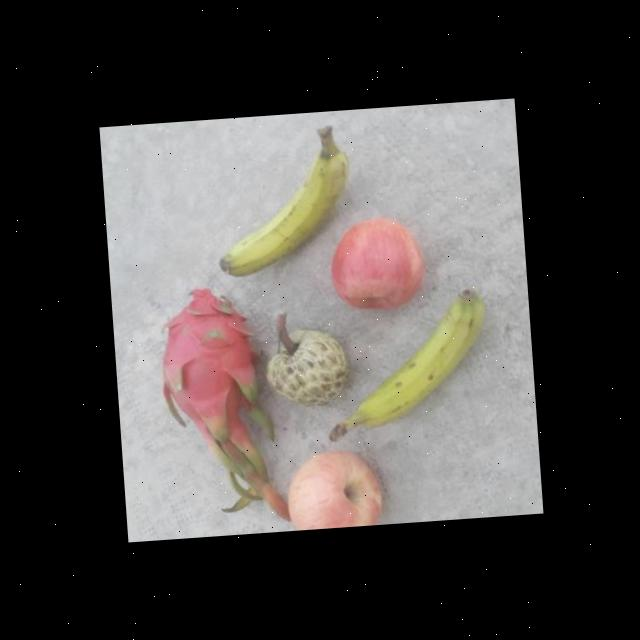Sakya fruit: (258, 316, 348, 410)
apple: (327, 214, 431, 315), (282, 444, 382, 531)
banana: (315, 284, 495, 443), (207, 119, 357, 280)
pitaya: (150, 283, 268, 450)
